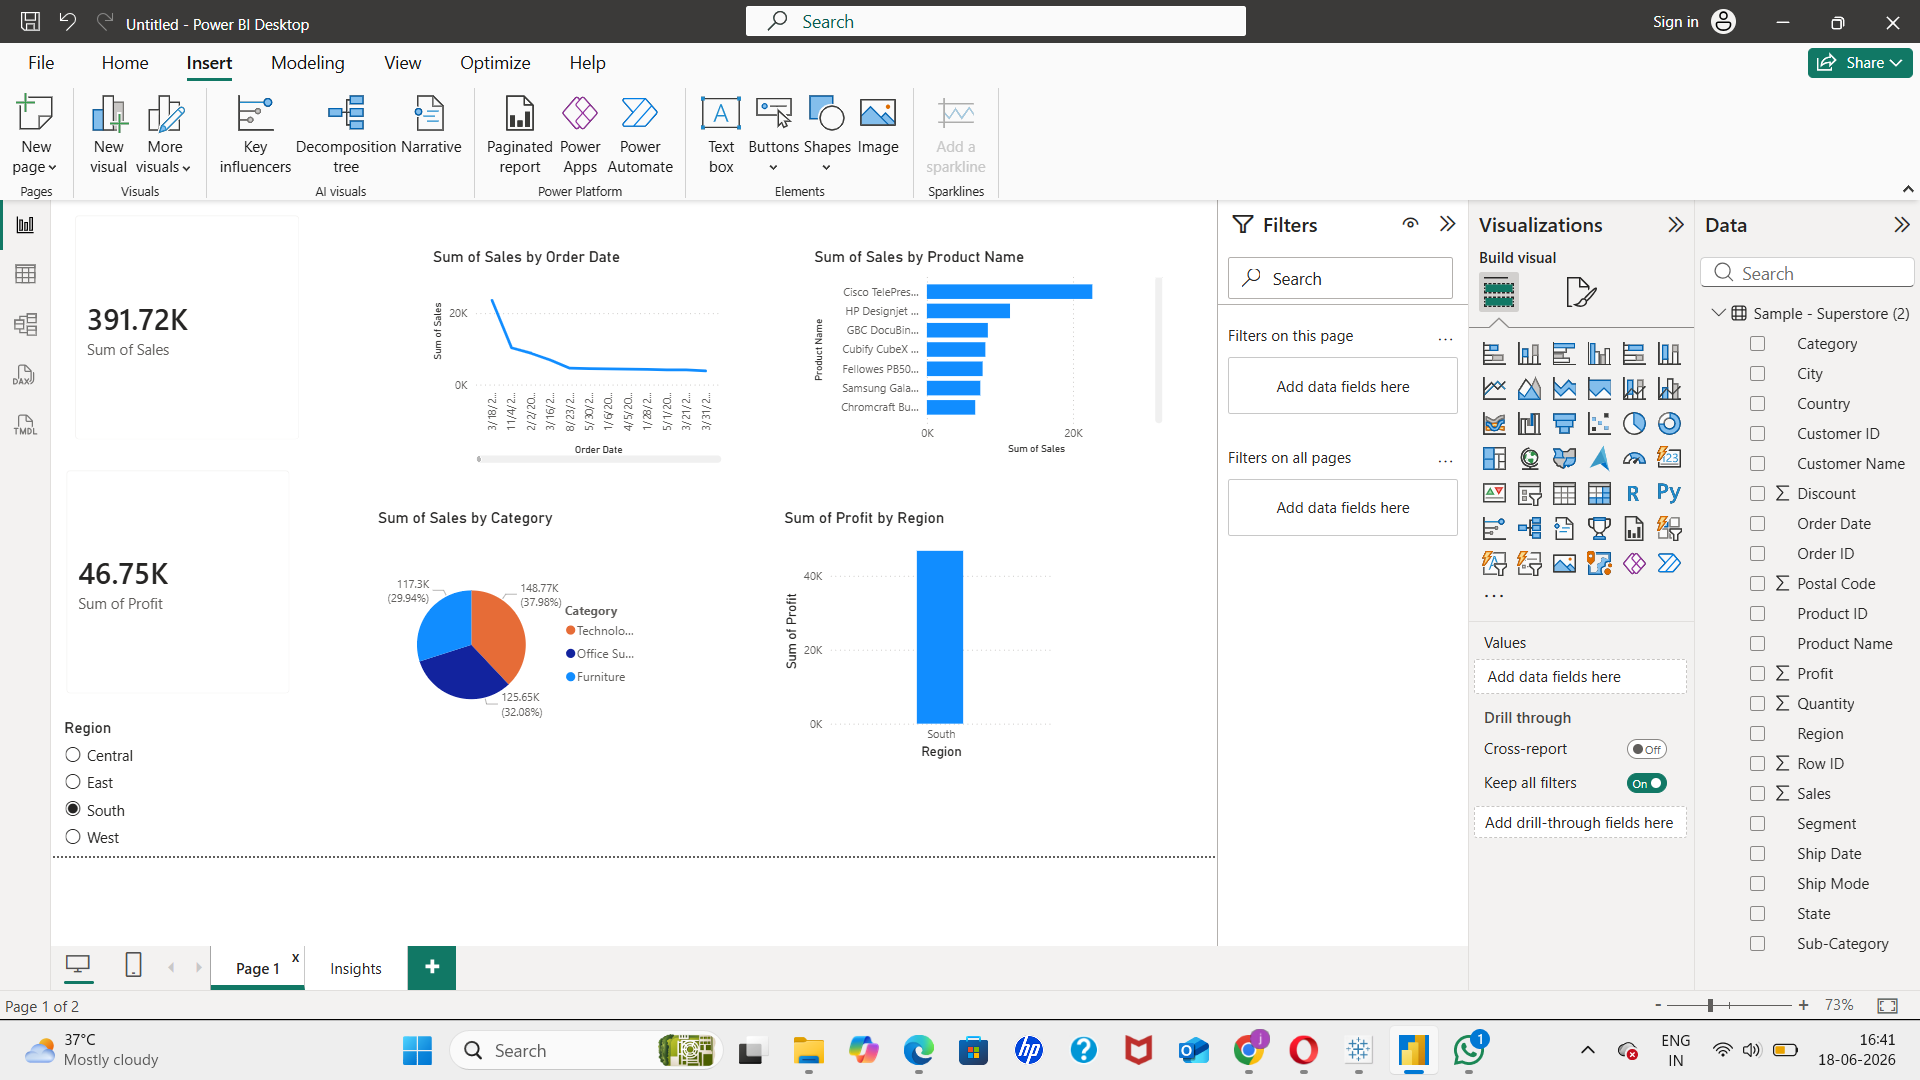

Layout of this report page (visuals, bound fields, positions):
{"tool":"powerbi","page":{"name":"Page 1","canvas":[1280,720],"ordinal":0},"visuals":[{"type":"cardVisual","fields":{"Data":["Sum(Sample - Superstore (2).Sales)"]},"box":[10,0,280,280],"z":0},{"type":"cardVisual","fields":{"Data":["Sum(Sample - Superstore (2).Profit)"]},"box":[0,279.9,279.9,279.9],"z":1000},{"type":"lineChart","fields":{"Category":["Sample - Superstore (2).Order Date"],"Y":["Sum(Sample - Superstore (2).Sales)"]},"box":[289.5,19.2,326.6,241.5],"z":2000},{"type":"clusteredBarChart","fields":{"Category":["Sample - Superstore (2).Product Name"],"Y":["Sum(Sample - Superstore (2).Sales)"]},"box":[832.9,52.1,392.5,231.9],"z":3000},{"type":"pieChart","fields":{"Category":["Sample - Superstore (2).Category"],"Y":["Sum(Sample - Superstore (2).Sales)"]},"box":[354,338.9,303.3,279.9],"z":4000},{"type":"clusteredColumnChart","fields":{"Category":["Sample - Superstore (2).Region"],"Y":["Sum(Sample - Superstore (2).Profit)"]},"box":[800,338.9,303.3,279.9],"z":5000},{"type":"slicer","fields":{"Values":["Sample - Superstore (2).Region"]},"box":[10,570,280,150],"z":6000},{"type":"textbox","box":[1103,339,150,280],"z":7000}]}

Visuals, with their boxes on the page's 1280x720 design canvas (x1, y1, x2, y2). These are canvas units, not pixel positions in the 1920x1080 screenshot, which may show the page scaled, cropped or inside an application window:
cardVisual - Sum(Sample - Superstore (2).Sales): 10, 0, 290, 280
cardVisual - Sum(Sample - Superstore (2).Profit): 0, 280, 280, 560
lineChart - Sample - Superstore (2).Order Date x Sum(Sample - Superstore (2).Sales): 290, 19, 616, 261
clusteredBarChart - Sample - Superstore (2).Product Name x Sum(Sample - Superstore (2).Sales): 833, 52, 1225, 284
pieChart - Sample - Superstore (2).Category x Sum(Sample - Superstore (2).Sales): 354, 339, 657, 619
clusteredColumnChart - Sample - Superstore (2).Region x Sum(Sample - Superstore (2).Profit): 800, 339, 1103, 619
slicer - Sample - Superstore (2).Region: 10, 570, 290, 720
textbox: 1103, 339, 1253, 619
